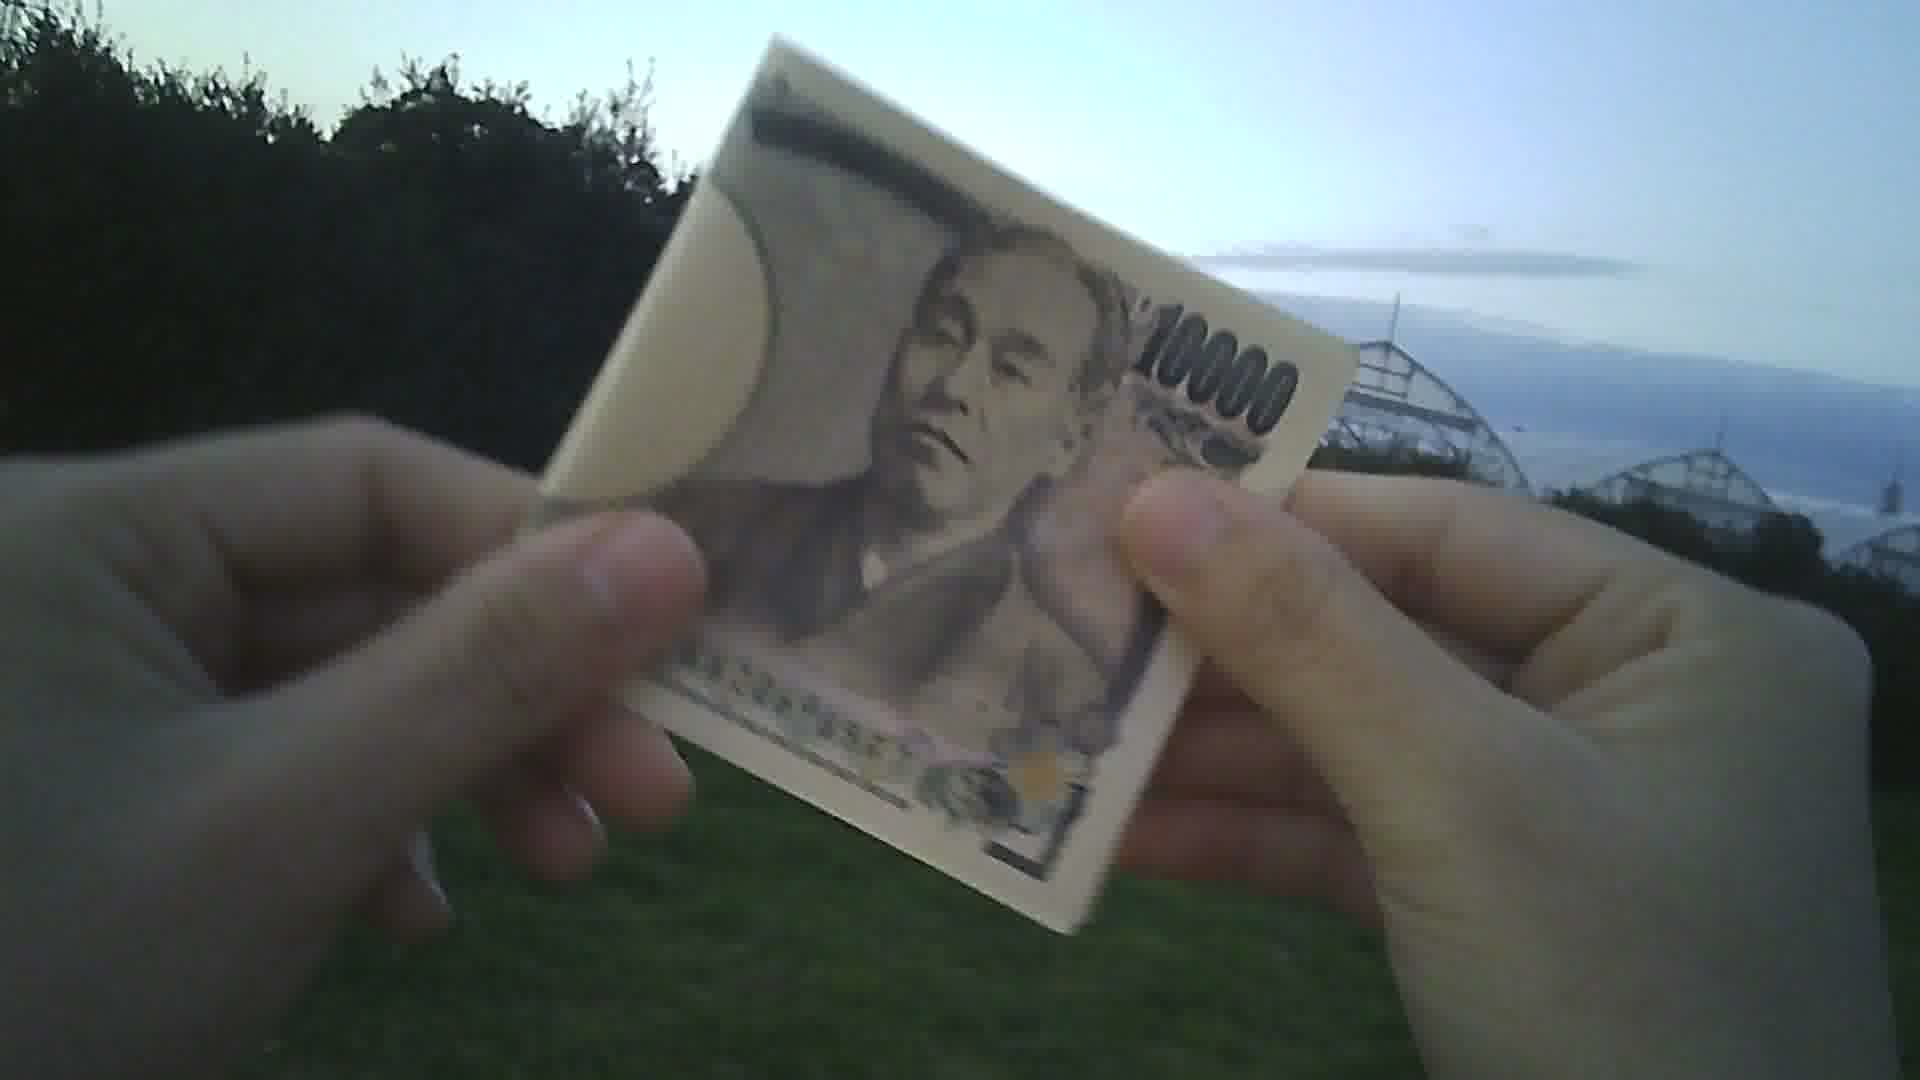10,000 Yen: (516, 46, 1365, 911)
